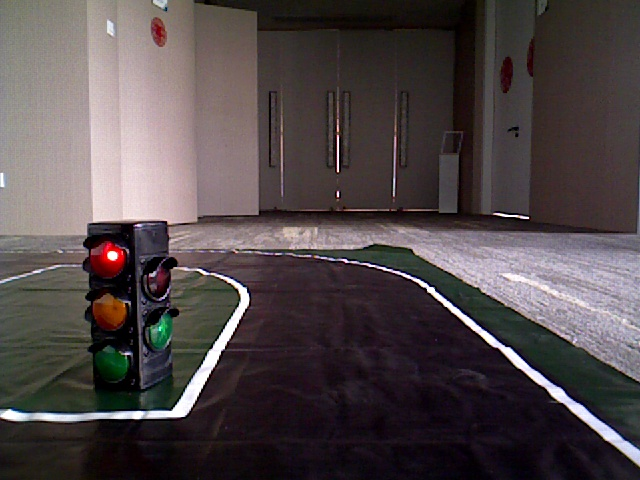red: (88, 225, 139, 380)
